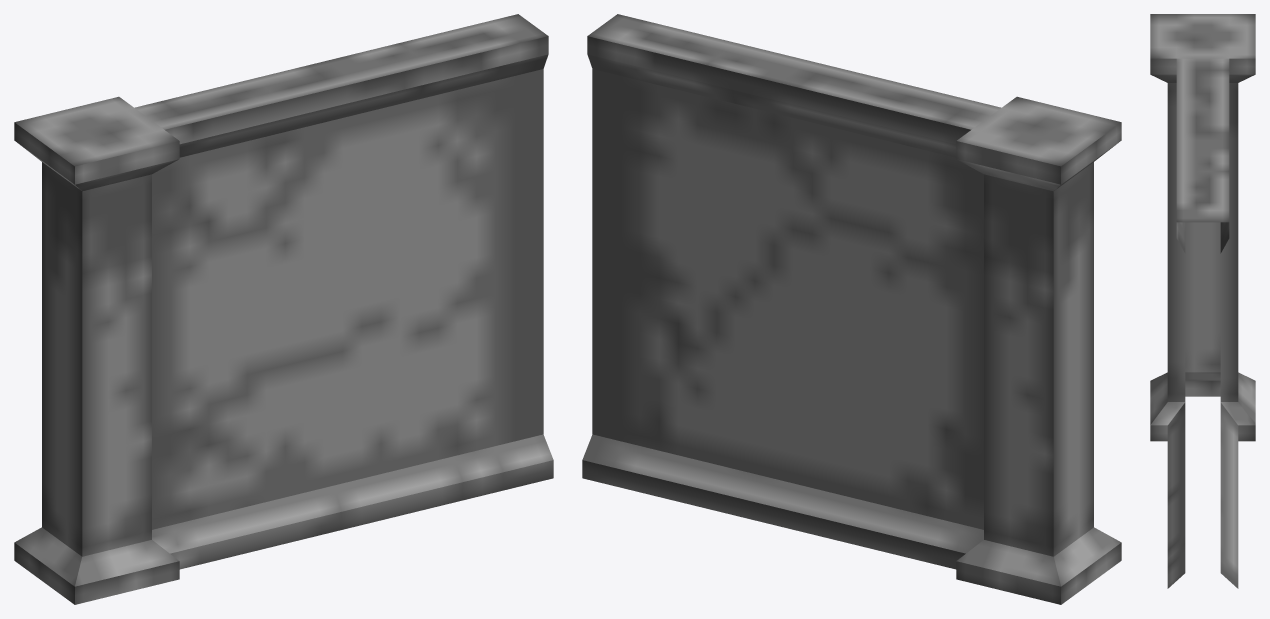
Rendered from ruinsExtension.fbx.
3 views of the same model, side by side, from view 1: azimuth 30°, elevation 25°; view 2: azimuth 150°, elevation 25°; view 3: azimuth 270°, elevation 25° (orthographic). The views are drawn at different scales.
Visible parts, largest first — view 1: polySurface73; view 2: polySurface73; view 3: polySurface73.
Boxes of the visible parts, x1,y1,x2,y2 form: polySurface73: (14, 14, 553, 604); polySurface73: (582, 14, 1121, 604); polySurface73: (1150, 14, 1255, 588).
Size of the model in its own units: 7 by 6 by 1.5.
Materials: 1 (1 with a texture image).
